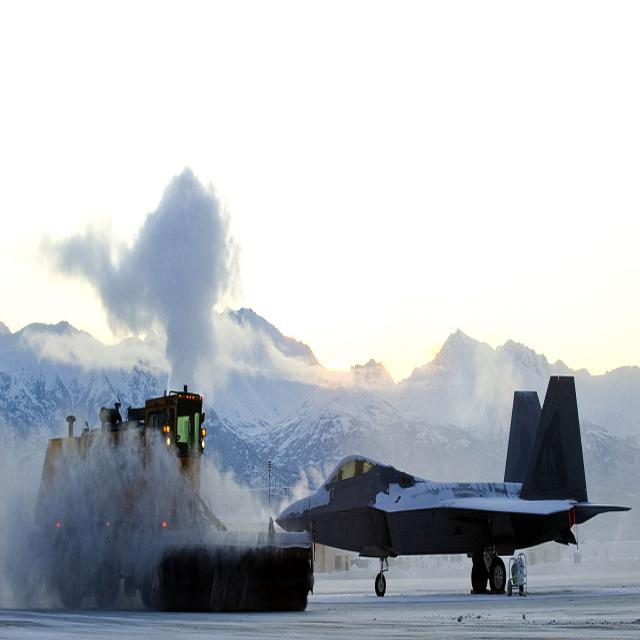MIL_Plane: (274, 376, 632, 598)
